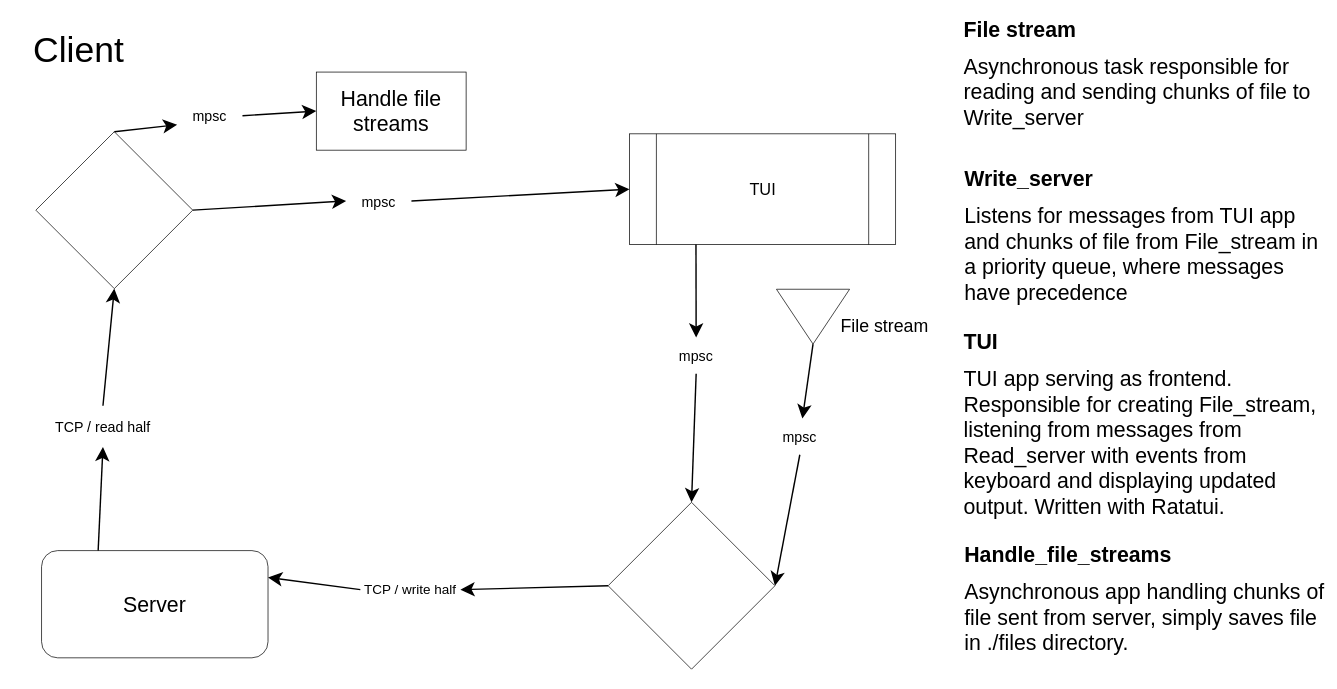
Image size: 1337x689. Some labels were removed from this diagram. The shapes that lost their labels are listed below. From the top down, each one's centre as x and y in pixels, then its label:
At pixel 114 210: "Read server".
At pixel 691 585: "Write server".
